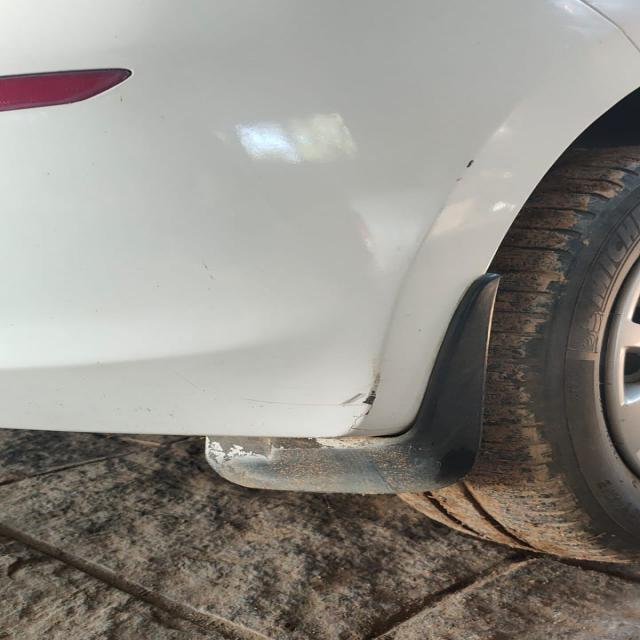rear-bumper-dent: (1, 1, 606, 498)
